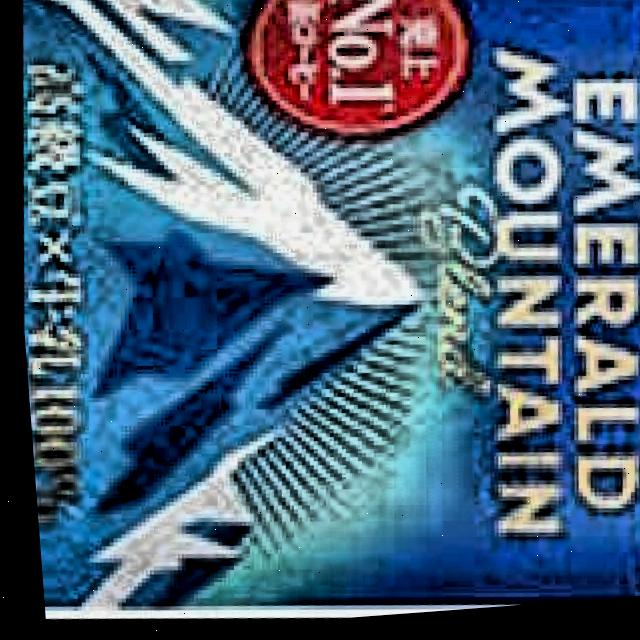metal: (18, 0, 640, 616)
